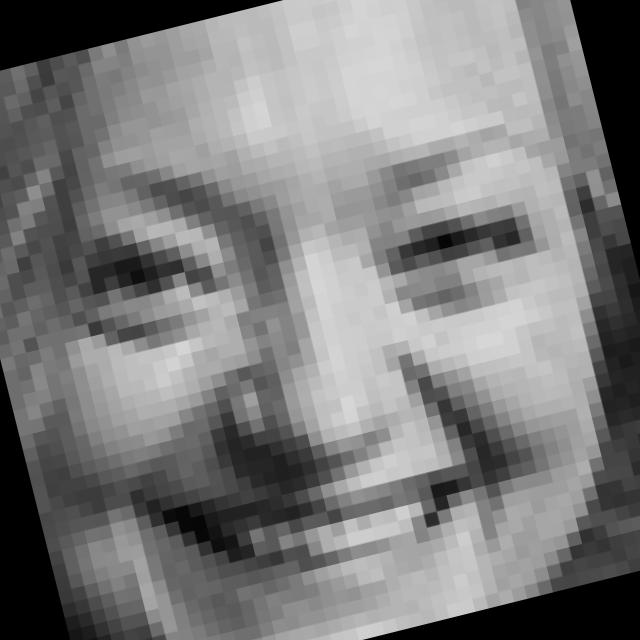happy: (40, 61, 640, 640)
